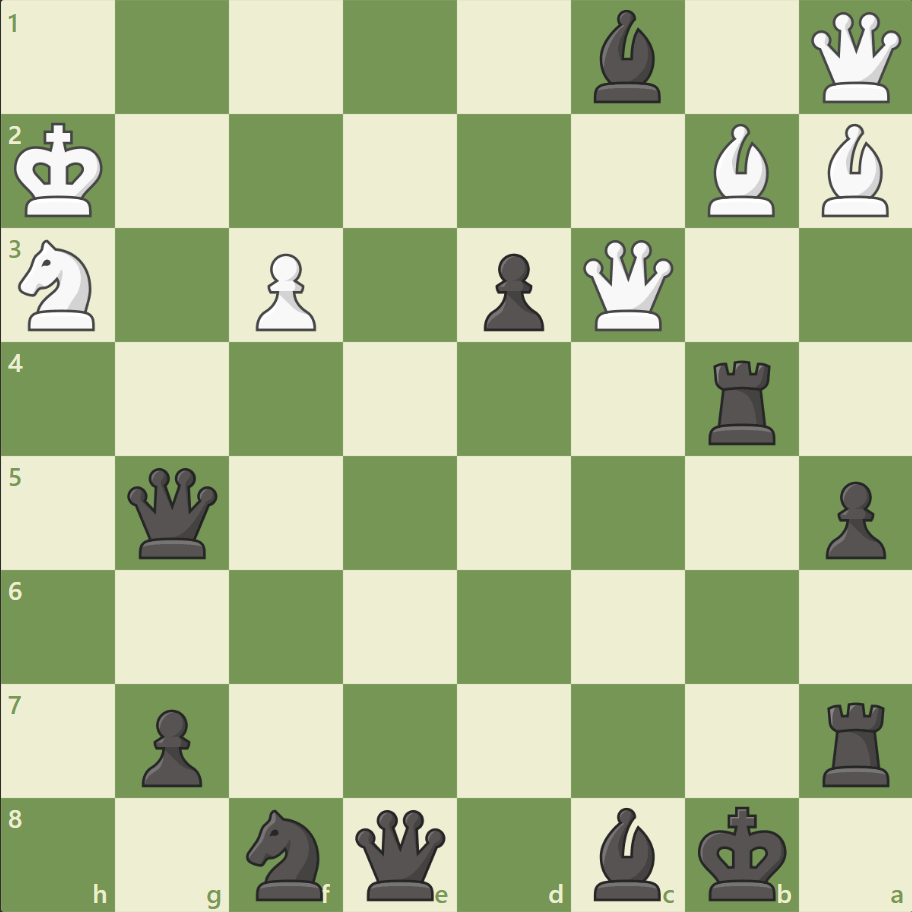B: (812, 120, 896, 222), (698, 120, 782, 222)
K: (11, 117, 111, 225)
N: (11, 234, 108, 337)
P: (247, 246, 322, 337)
Q: (578, 236, 677, 335), (805, 9, 904, 108)
b: (585, 801, 669, 904), (585, 6, 669, 109)
k: (692, 798, 792, 906)
n: (238, 802, 335, 904)
p: (133, 700, 208, 791), (474, 246, 549, 337), (815, 473, 889, 564)
q: (351, 804, 450, 903), (124, 463, 223, 562)
r: (814, 693, 897, 790), (700, 352, 783, 449)
